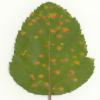Apple rust leaf: (1, 1, 97, 97)
